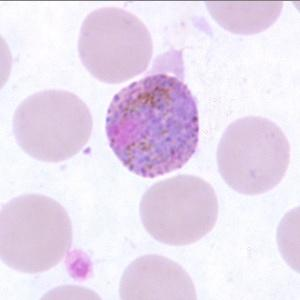Infected: (103, 73, 200, 178)
Uninfected: (11, 89, 94, 164), (215, 114, 290, 194), (79, 7, 154, 85), (138, 176, 219, 246), (0, 193, 70, 274)
